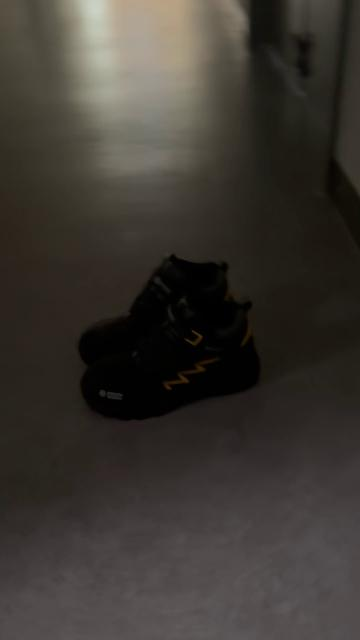shoe_worn: (77, 294, 258, 427), (78, 252, 234, 364)
